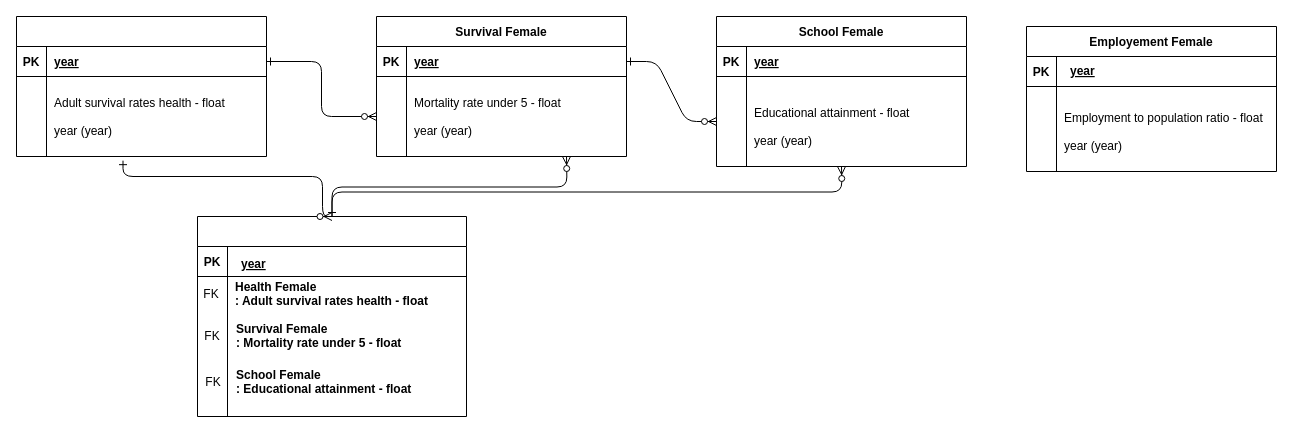
Image size: 1303x433. Some labels were removed from this diagram. The box of each missing label's shape, as (x1, y1, x2, y2) in pixels:
Health Female: (16, 16, 266, 156)
Human Capital Indicator Female: (196, 216, 466, 416)
